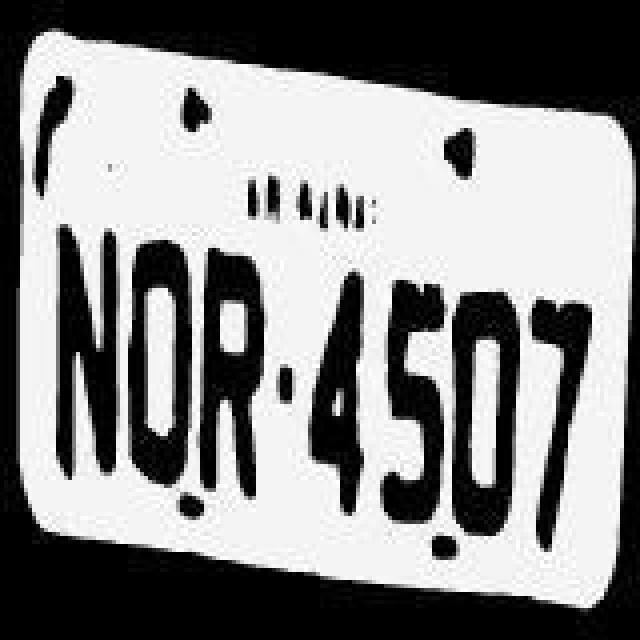4: (300, 258, 372, 526)
5: (374, 274, 450, 526)
7: (522, 282, 598, 550)
N: (50, 220, 126, 500)
O: (446, 288, 522, 544), (126, 230, 194, 490)
R: (200, 248, 280, 504)
